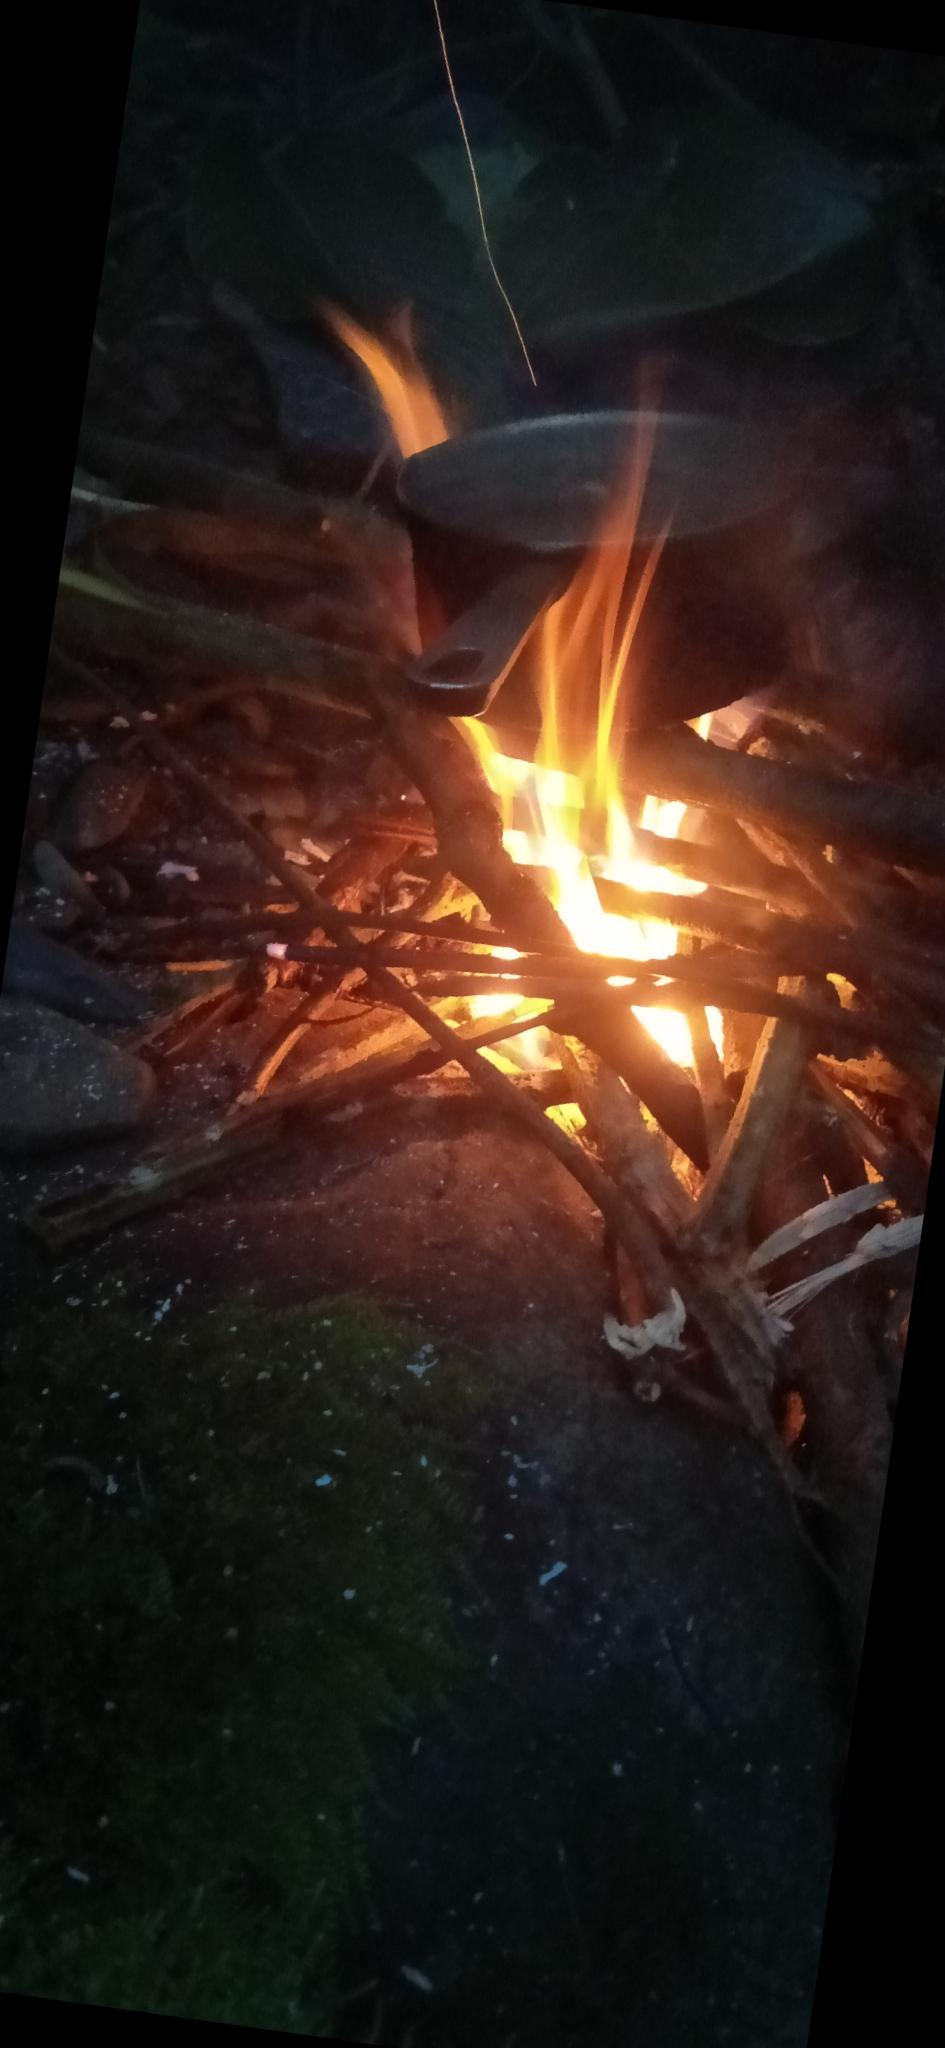Fire: (389, 346, 818, 1168), (303, 290, 473, 469)
